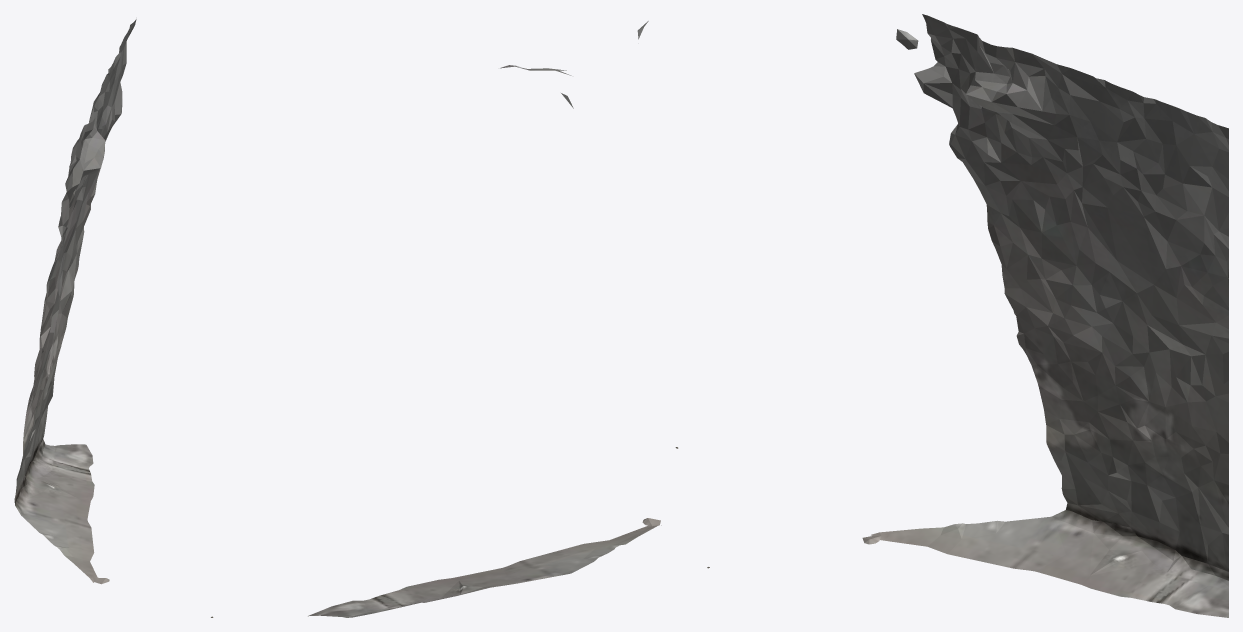
3 renders of one model, left to right at view 1: azimuth 30°, elevation 25°; view 2: azimuth 150°, elevation 25°; view 3: azimuth 270°, elevation 25°, orthographic. The views are drawn at different scales.
Size of the model in its own units: 0.3938 by 0.8374 by 0.76.
2 materials, 2 textured.
